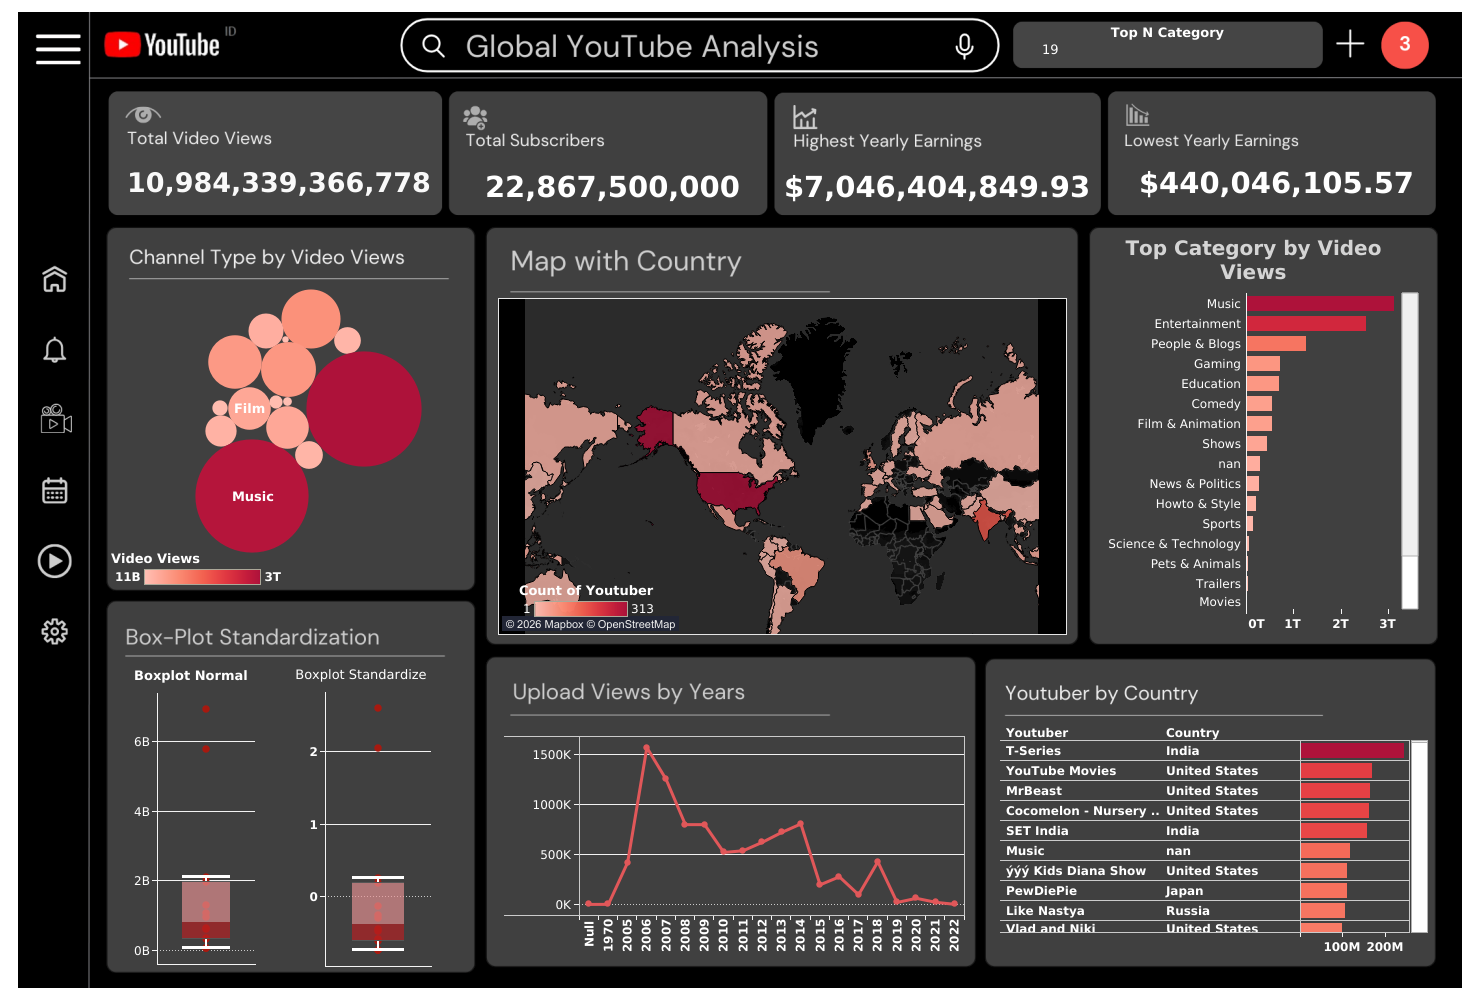

The page's visual inventory and layout, read from the dashboard file:
{"tool":"tableau","page":{"name":"Dashboard 2","canvas":[1480,1000],"ordinal":1},"visuals":[{"type":"image","param":"Image/Dark Mode Modern Project Management Software Desktop Prototype (1280 x 100","box":[8,8,1464,984]},{"type":"parameter","param":"[Parameters].[Parameter 1]","box":[1040,23,256,41]},{"type":"worksheet","title":"Highest Yearly Earnings","mark":"Automatic","box":[775,128,387,90]},{"type":"worksheet","title":"Total Video Views","mark":"Automatic","box":[77,151,404,52]},{"type":"worksheet","title":"Total Subscriber","mark":"Automatic","box":[464,155,455,61]},{"type":"worksheet","title":"Top Category","mark":"Automatic","rows":["category"],"cols":["video views"],"box":[1106,230,313,409]},{"type":"worksheet","title":"Packed Bubbles Channel Type","mark":"Circle","box":[176,273,413,280]},{"type":"worksheet","title":"Maps With Abbrevation","mark":"Multipolygon","box":[498,283,569,352]},{"type":"legend","title":"Packed Bubbles Channel Type","param":"[federated.17qivww0ivedin19e5m3415cz92q].[sum:video views:qk]","box":[111,546,176,67]},{"type":"legend","title":"Maps With Abbrevation","param":"[federated.17qivww0ivedin19e5m3415cz92q].[cnt:Youtuber:qk]","box":[519,578,140,76]},{"type":"worksheet","title":"Boxplot Standardize","mark":"Circle","rows":["Standardize"],"box":[291,660,140,306]},{"type":"worksheet","title":"Boxplot Normal","mark":"Circle","rows":["Subscriber"],"box":[127,661,128,303]},{"type":"worksheet","title":"Sheet Youtuber by Country","mark":"Automatic","rows":["Youtuber","Country"],"cols":["subscribers"],"box":[1000,705,428,258]},{"type":"worksheet","title":"Tabel Tahun dan Upload","mark":"Line","rows":["uploads","uploads"],"cols":["created_year"],"box":[504,721,461,233]}]}

Visuals, with their boxes on the page's 1480x1000 design canvas (x1, y1, x2, y2). These are canvas units, not pixel positions in the 1479x999 screenshot, which may show the page scaled, cropped or inside an application window:
image: <bbox>8, 8, 1472, 992</bbox>
parameter: <bbox>1040, 23, 1296, 64</bbox>
"Highest Yearly Earnings" worksheet: <bbox>775, 128, 1162, 218</bbox>
"Total Video Views" worksheet: <bbox>77, 151, 481, 203</bbox>
"Total Subscriber" worksheet: <bbox>464, 155, 919, 216</bbox>
"Top Category" worksheet: <bbox>1106, 230, 1419, 639</bbox>
"Packed Bubbles Channel Type" worksheet (Circle marks): <bbox>176, 273, 589, 553</bbox>
"Maps With Abbrevation" worksheet (Multipolygon marks): <bbox>498, 283, 1067, 635</bbox>
"Packed Bubbles Channel Type" legend: <bbox>111, 546, 287, 613</bbox>
"Maps With Abbrevation" legend: <bbox>519, 578, 659, 654</bbox>
"Boxplot Standardize" worksheet (Circle marks): <bbox>291, 660, 431, 966</bbox>
"Boxplot Normal" worksheet (Circle marks): <bbox>127, 661, 255, 964</bbox>
"Sheet Youtuber by Country" worksheet: <bbox>1000, 705, 1428, 963</bbox>
"Tabel Tahun dan Upload" worksheet (Line marks): <bbox>504, 721, 965, 954</bbox>
